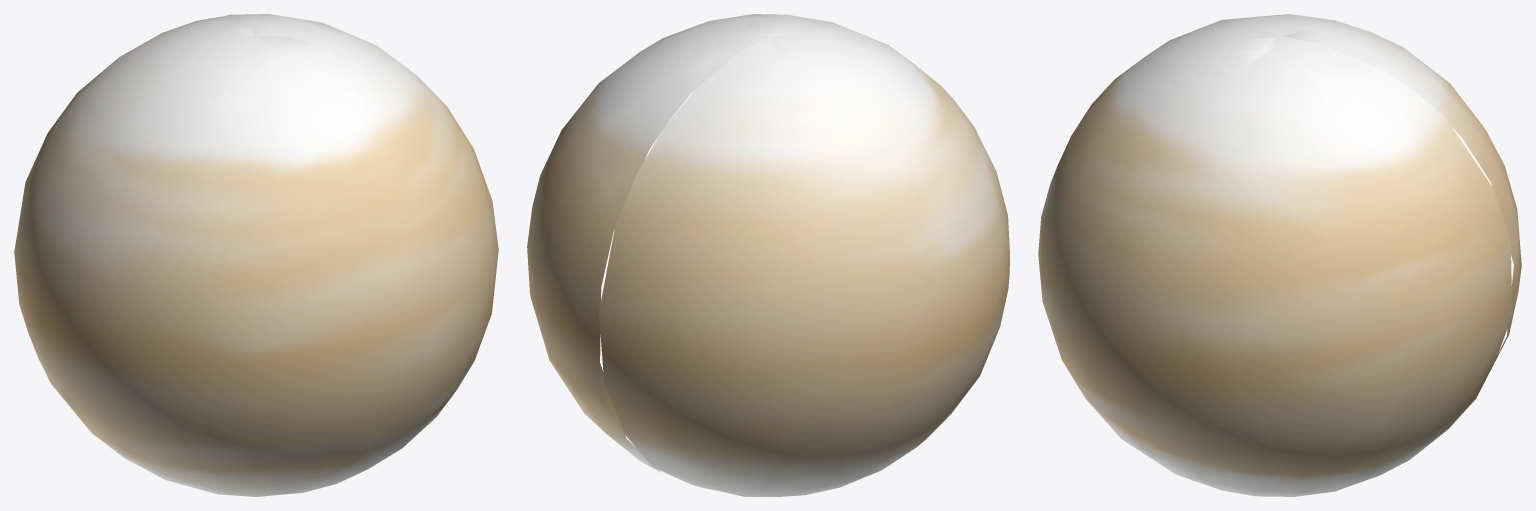
File: venus-small.glb
3 views of the same model, side by side, from view 1: azimuth 30°, elevation 25°; view 2: azimuth 150°, elevation 25°; view 3: azimuth 270°, elevation 25° (orthographic).
Visible parts, largest first — view 1: Body; view 2: Body; view 3: Body.
Boxes of the visible parts, x1,y1,x2,y2 form: Body: (14, 14, 498, 496); Body: (527, 14, 1009, 496); Body: (1038, 14, 1521, 496).
Size of the model in its own units: 2.01 by 2 by 2.
Materials: 1 (1 with a texture image).
